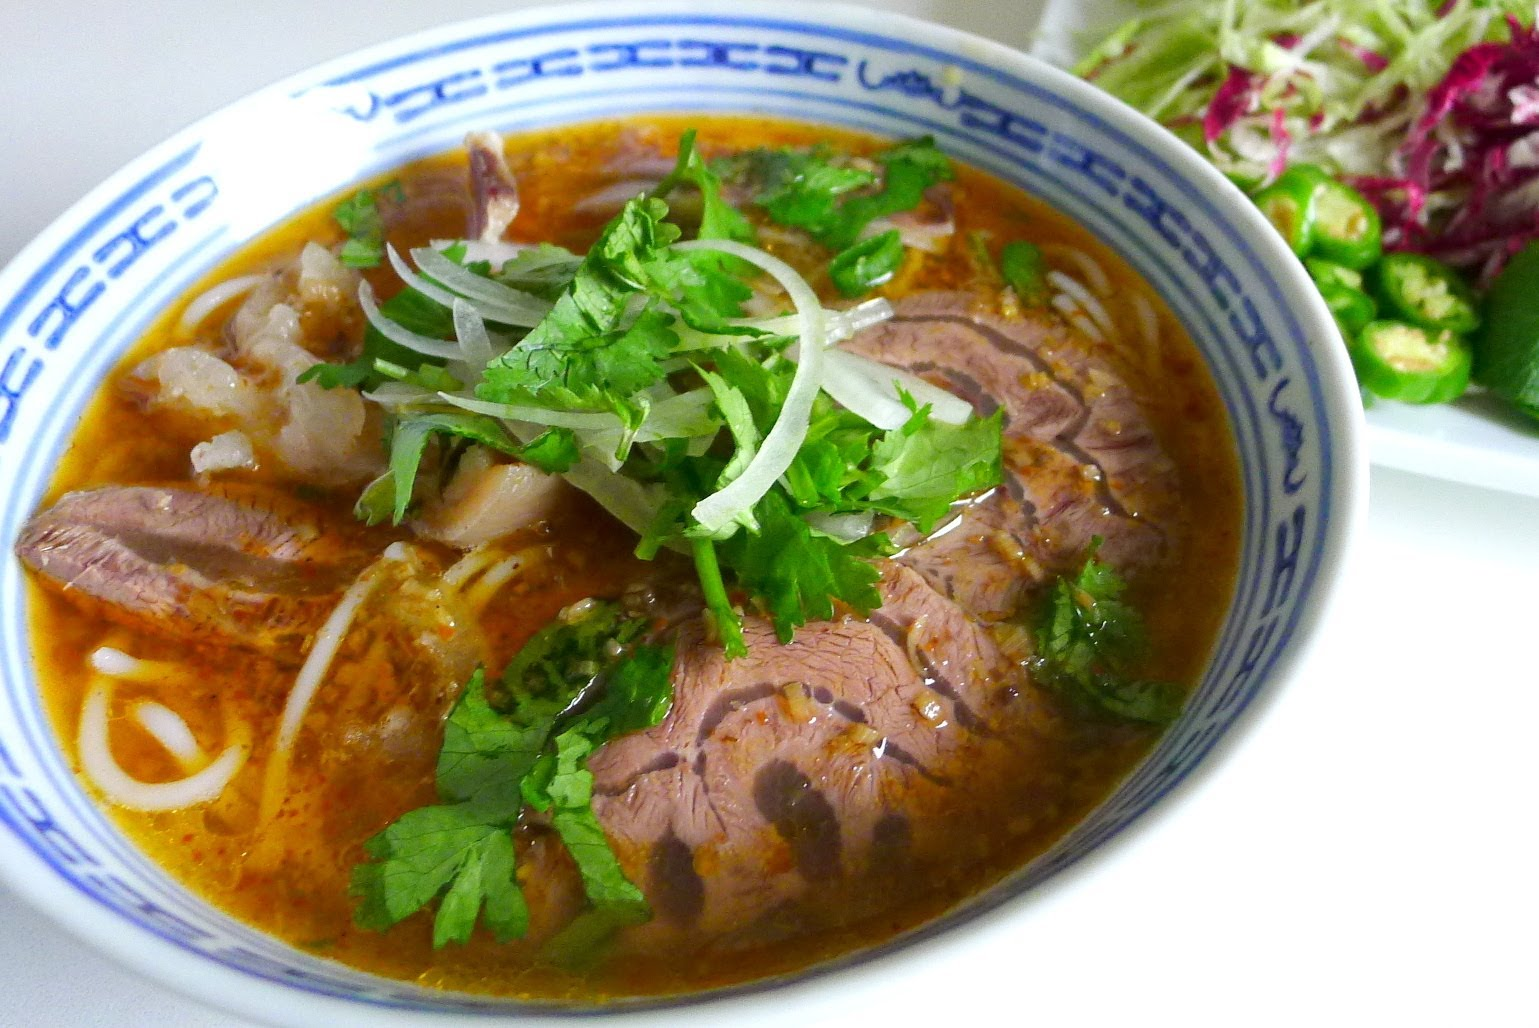beef: (558, 535, 983, 930), (132, 246, 382, 464), (906, 368, 1122, 609), (14, 494, 343, 642), (860, 317, 1085, 420)
onion: (508, 246, 822, 520)
